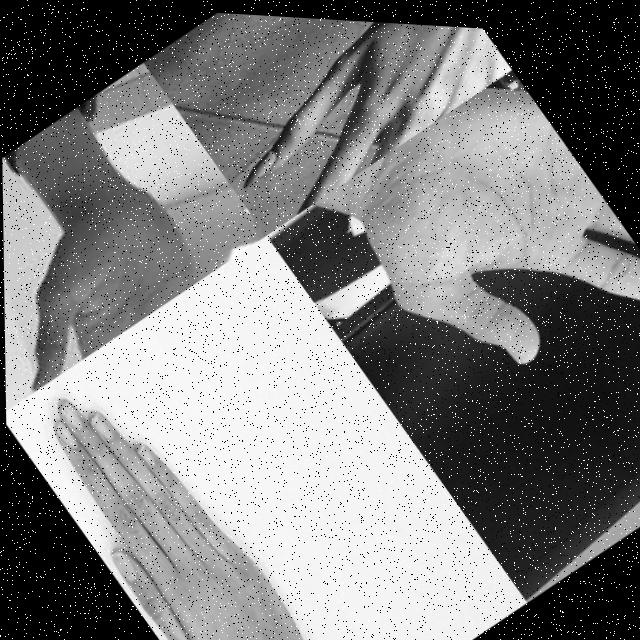hand: (322, 54, 640, 445), (14, 357, 339, 640), (182, 8, 514, 243), (2, 157, 216, 402)
